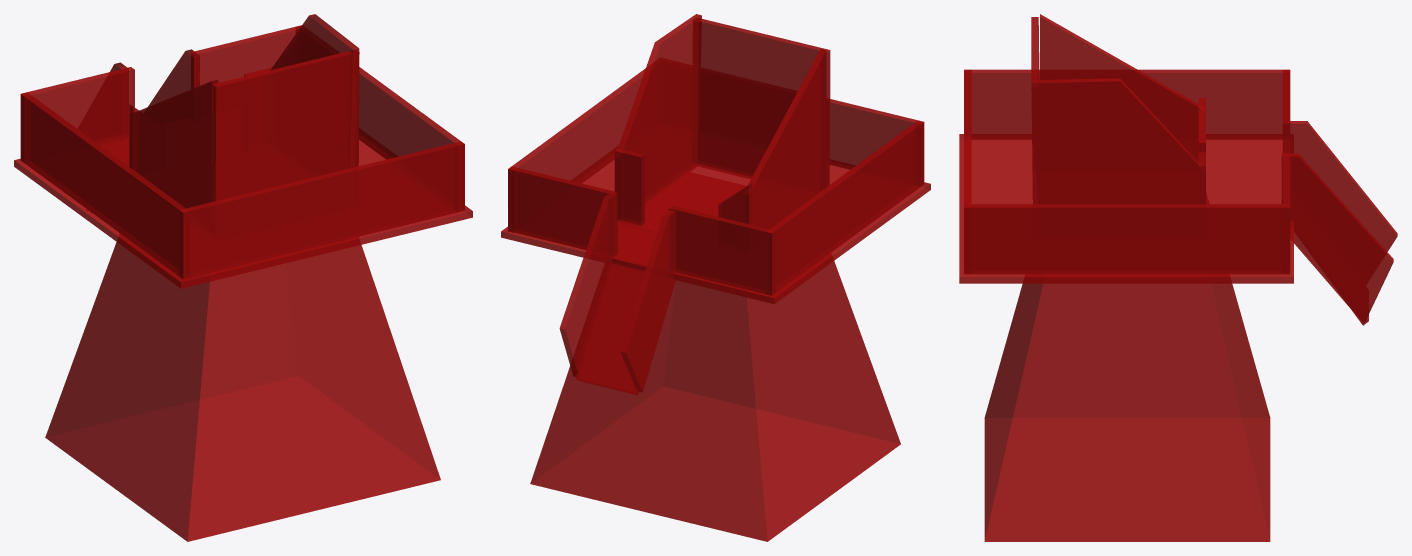
File: SM_Bld_GuardTower_Destroyed_02_Collision.fbx
3 views of the same model, side by side, from view 1: azimuth 30°, elevation 25°; view 2: azimuth 150°, elevation 25°; view 3: azimuth 270°, elevation 25° (orthographic). The views are drawn at different scales.
Parts seen in each view (by area): view 1: SM_Bld_GuardTower_Destroyed_02_Collision; view 2: SM_Bld_GuardTower_Destroyed_02_Collision; view 3: SM_Bld_GuardTower_Destroyed_02_Collision.
Part boxes in pixels (x1=…): SM_Bld_GuardTower_Destroyed_02_Collision: x1=14, y1=14, x2=472, y2=541; SM_Bld_GuardTower_Destroyed_02_Collision: x1=501, y1=14, x2=930, y2=541; SM_Bld_GuardTower_Destroyed_02_Collision: x1=959, y1=14, x2=1397, y2=541.
Bounding box in the file's own units: 400 × 565 × 519.
